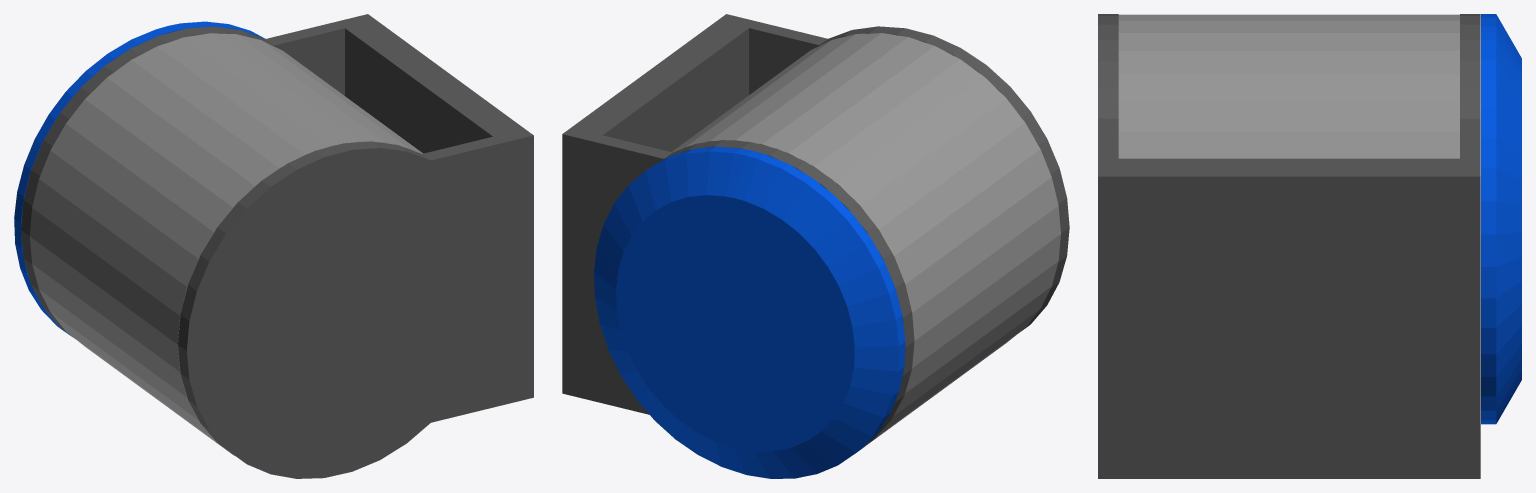
File: arm_link_5.dae
3 renders of one model, left to right at view 1: azimuth 30°, elevation 25°; view 2: azimuth 150°, elevation 25°; view 3: azimuth 270°, elevation 25°, orthographic. The views are drawn at different scales.
Visible parts, largest first — view 1: 简化-关节U型件, 关节模块, 大关节盖; view 2: 大关节盖, 关节模块, 简化-关节U型件; view 3: 简化-关节U型件, 关节模块, 大关节盖.
Part boxes in pixels (bbox=[...]): 简化-关节U型件: bbox=[21, 14, 533, 478]; 关节模块: bbox=[29, 33, 422, 455]; 大关节盖: bbox=[14, 21, 265, 337]; 大关节盖: bbox=[594, 146, 905, 478]; 关节模块: bbox=[672, 33, 1060, 446]; 简化-关节U型件: bbox=[562, 14, 1069, 444]; 简化-关节U型件: bbox=[1098, 14, 1480, 478]; 关节模块: bbox=[1118, 14, 1459, 158]; 大关节盖: bbox=[1481, 14, 1521, 424].
Bounding box in the file's own units: 0.09 × 0.0826 × 0.08.
